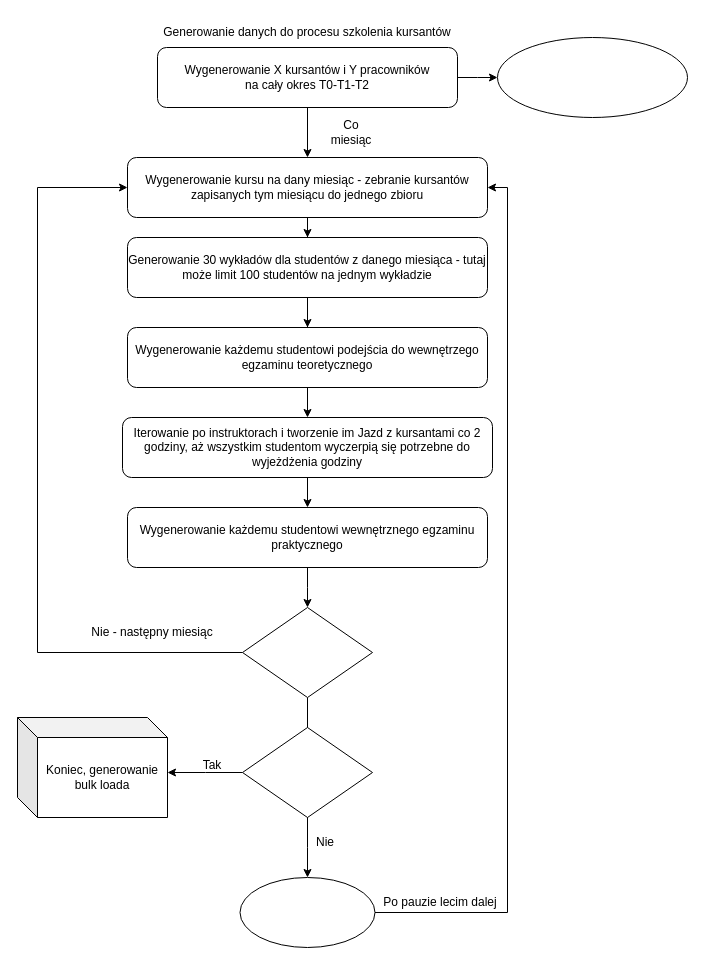
This 705x965 diagram has some shape labels left out. The centre of each missing label's shape, as x and y in pixels:
Czy osiągnięto T1?: the point at 307,652
Czy osiągnięto T2?: the point at 307,772
Instruktorów będzie więcej niż wykładowców: the point at 592,77
Pauza - jakaś zmiana danych: the point at 307,912
